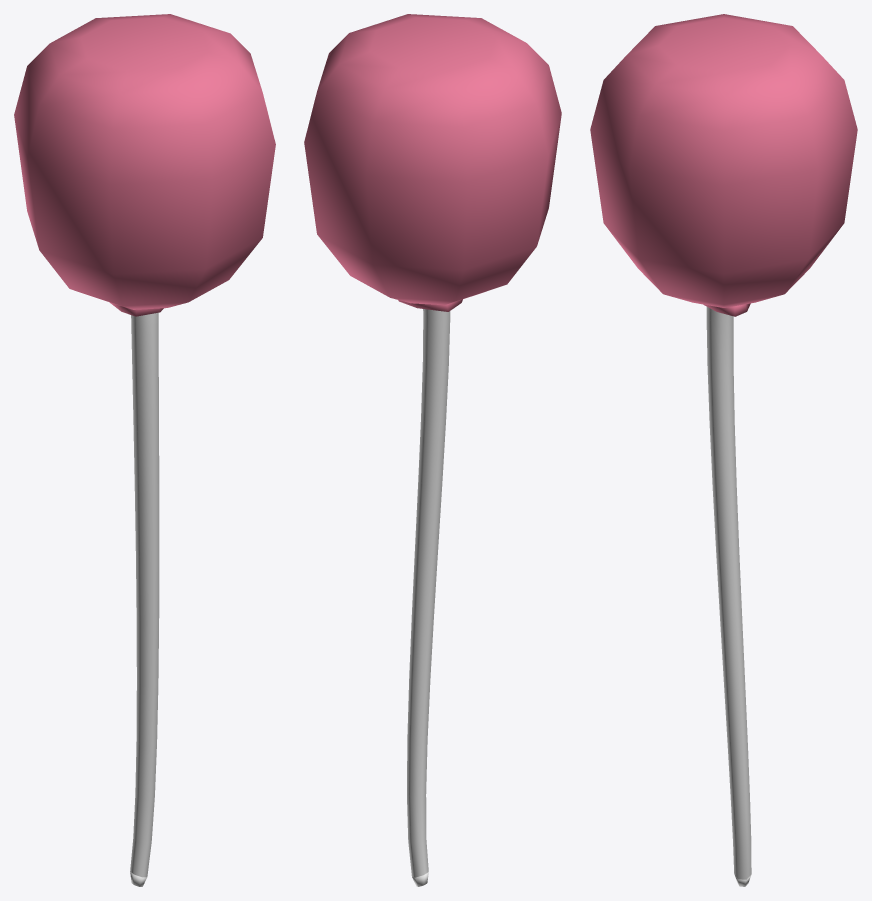
Rendered from balloon.fbx.
The picture shows the model from 3 angles, left to right: view 1: azimuth 30°, elevation 25°; view 2: azimuth 150°, elevation 25°; view 3: azimuth 270°, elevation 25°; orthographic projection.
Visible parts, largest first — view 1: Cylinder.006; view 2: Cylinder.006; view 3: Cylinder.006.
Boxes of the visible parts, x1,y1,x2,y2 form: Cylinder.006: [14, 14, 275, 886]; Cylinder.006: [304, 14, 561, 886]; Cylinder.006: [590, 14, 857, 886].
Size of the model in its own units: 222 by 768 by 222.
